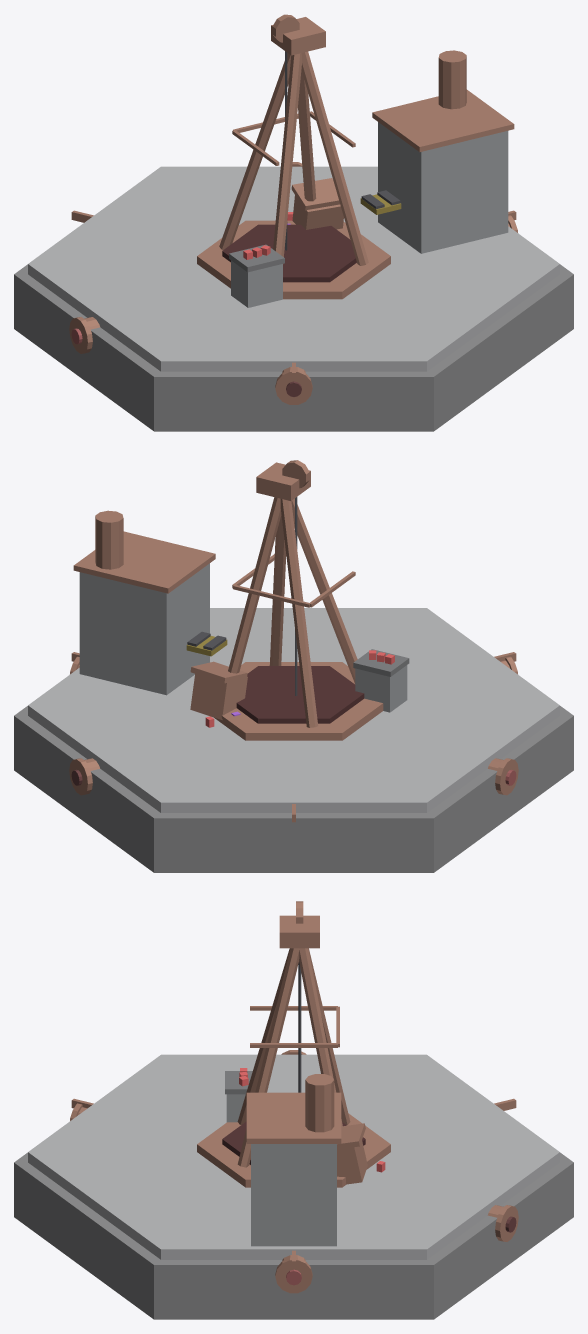
File: resonance_harvester_s2_50.glb
3 views of the same model, one above another, from view 1: azimuth 30°, elevation 25°; view 2: azimuth 150°, elevation 25°; view 3: azimuth 270°, elevation 25° (orthographic).
Parts seen in each view (by area): view 1: RH_Base; view 2: RH_Base; view 3: RH_Base.
Boxes of the visible parts, bbox=[...] form: RH_Base: bbox=[14, 14, 573, 431]; RH_Base: bbox=[14, 460, 573, 872]; RH_Base: bbox=[14, 901, 573, 1319].
Size of the model in its own units: 3.54 by 2.4 by 3.9.
